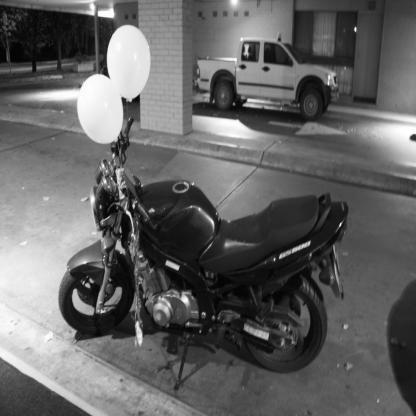moto: (55, 143, 351, 389)
